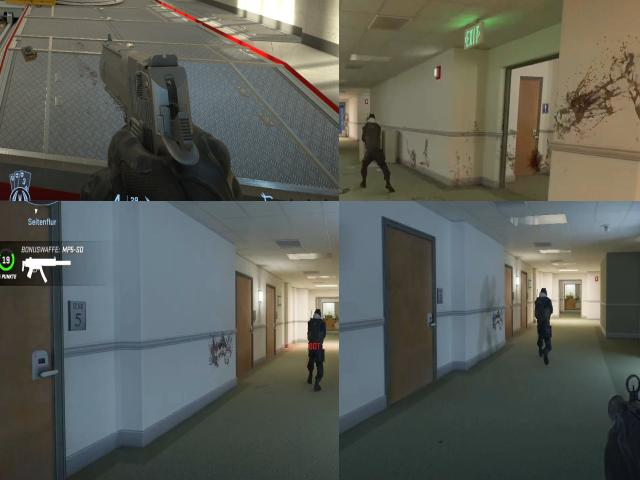Bomb: (17, 40, 39, 68)
CT: (358, 98, 388, 169), (305, 305, 326, 353), (535, 286, 553, 334)
CT-Head: (365, 108, 377, 130), (310, 307, 323, 323), (538, 287, 551, 303)
